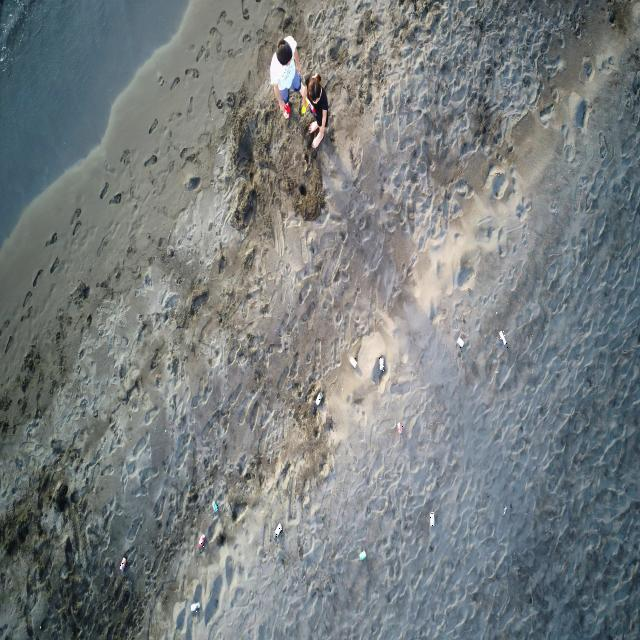tin-and-aluminum-cans: (498, 331, 508, 348), (274, 522, 282, 538), (119, 558, 127, 572), (198, 533, 206, 547), (192, 601, 202, 612), (457, 337, 466, 348), (350, 356, 357, 369), (316, 392, 323, 405), (379, 358, 384, 373), (212, 501, 218, 513), (359, 550, 366, 560), (398, 421, 403, 435), (430, 512, 435, 526)
